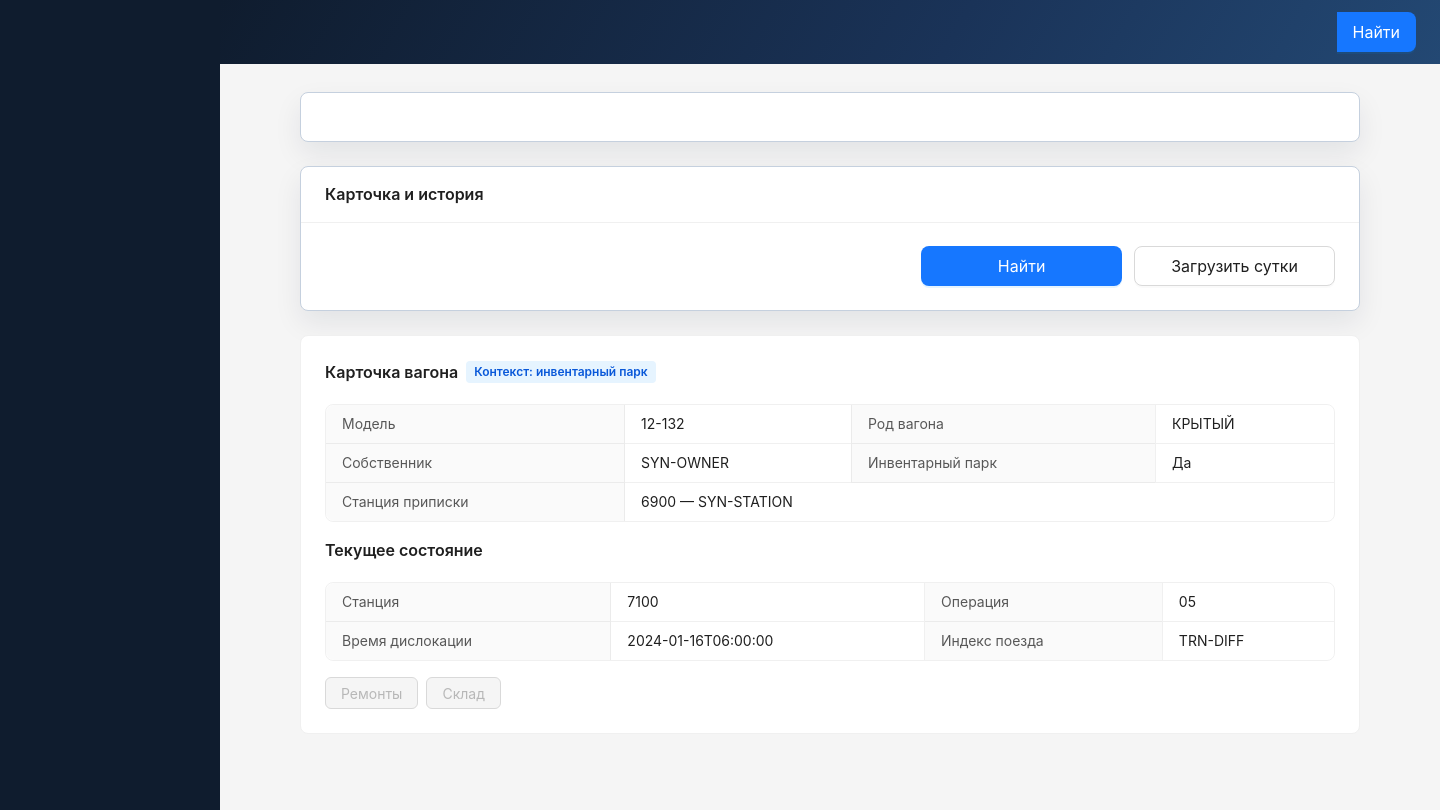
App R1/R2/R3 scenarios › shows empty day state after explicit day load
The image size is (1440, 810).
Click the button "Загрузить сутки".
click(1235, 266)  # box left=1134, top=246, right=1335, bottom=286
(page scrolled)
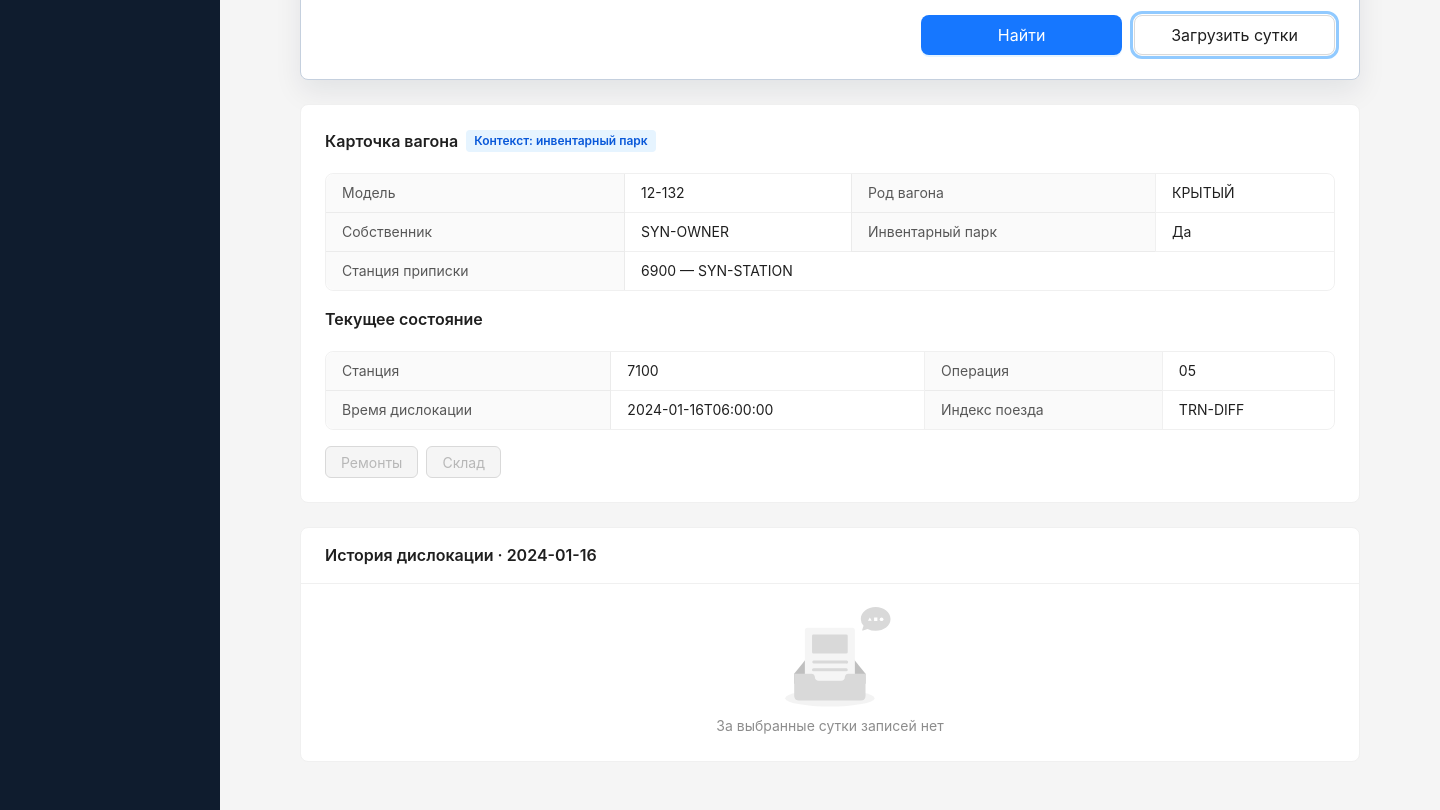
expect the text "За выбранные сутки записей нет" is shown: met, box left=716, top=717, right=944, bottom=734
